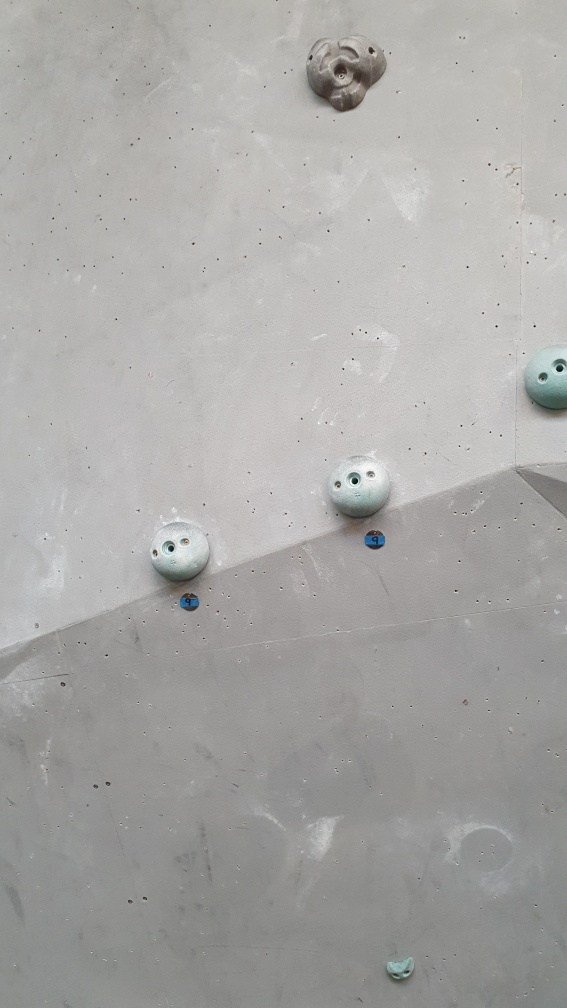Hand Start: (365, 525, 388, 552), (179, 590, 203, 615)
Jug: (298, 29, 398, 116)
Sloper: (324, 451, 394, 526), (145, 519, 215, 581), (523, 342, 567, 412)
